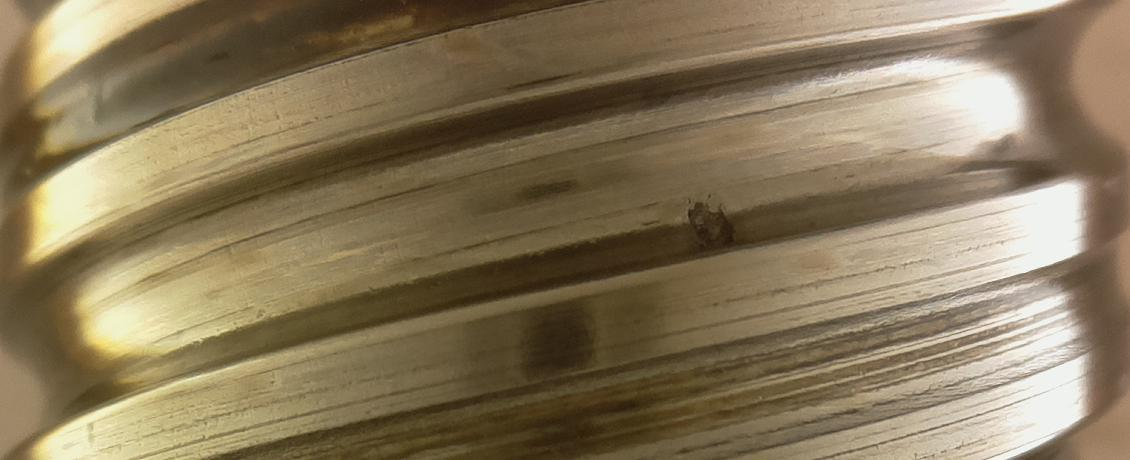pitting: (687, 200, 736, 251)
